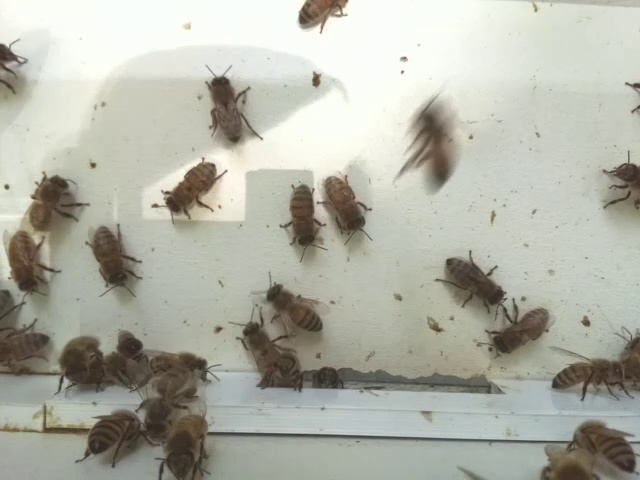bee: (395, 90, 473, 195), (194, 58, 271, 150), (146, 158, 242, 226), (251, 267, 339, 337), (434, 241, 512, 319), (544, 338, 635, 401), (82, 221, 151, 296), (78, 400, 151, 468), (318, 167, 377, 249), (470, 303, 562, 354), (558, 414, 640, 471), (23, 168, 98, 230), (279, 174, 330, 255), (229, 310, 290, 377), (161, 411, 219, 480), (3, 223, 58, 295), (530, 437, 605, 480), (146, 343, 220, 386), (1, 314, 57, 370), (599, 145, 640, 221), (58, 332, 109, 392), (266, 348, 309, 401), (112, 327, 148, 390), (287, 1, 357, 33), (1, 32, 38, 90), (143, 394, 176, 440), (306, 361, 349, 396)
